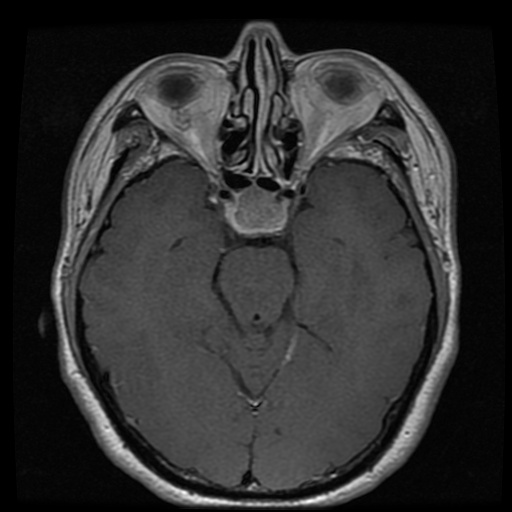pituitary: (232, 184, 286, 233)
